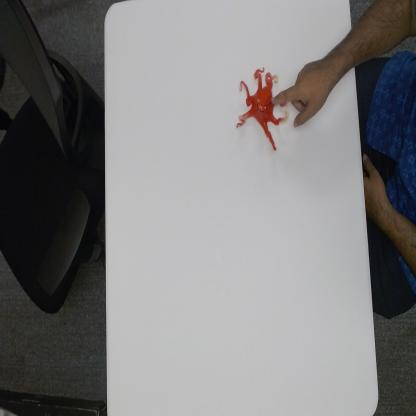Hand: (271, 58, 337, 129)
Octopus: (235, 65, 290, 153)
